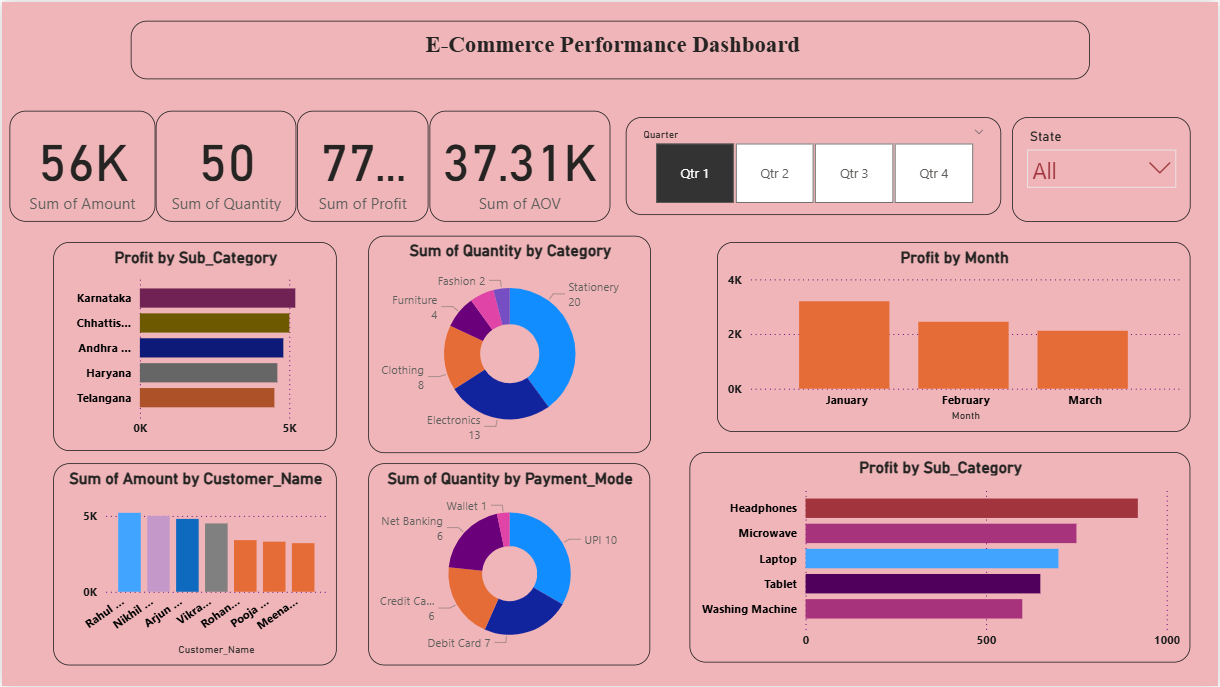

Layout of this report page (visuals, bound fields, positions):
{"tool":"powerbi","page":{"name":"Page 1","canvas":[1280,720],"ordinal":0},"visuals":[{"type":"textbox","box":[135.5,19.7,1009.2,61.8],"z":0},{"type":"clusteredColumnChart","title":"Profit by Month","fields":{"Category":["Sheet1 (2).Order_Date.Variation.Date Hierarchy.Month"],"Y":["Sheet1.Profit"]},"box":[752.5,252.5,498.8,200],"z":1000},{"type":"barChart","title":" Profit by Sub_Category","fields":{"Category":["Sheet1.Sub_Category"],"Y":["Sheet1.Profit"]},"box":[724.3,474.3,527.1,221.4],"z":2000},{"type":"donutChart","fields":{"Category":["Sheet1.Category"],"Y":["Sheet1.Quantity"]},"box":[385,246.2,297.5,228.8],"z":3000},{"type":"donutChart","fields":{"Y":["Sheet1.Quantity"],"Category":["Sheet1.Payment_Mode"]},"box":[385.7,485.7,297.1,212.9],"z":4000},{"type":"card","fields":{"Values":["Sheet1.Amount"]},"box":[8.3,115,153.3,116.7],"z":5000},{"type":"card","fields":{"Values":["Sheet1.Quantity"]},"box":[161.7,115,148.3,116.7],"z":6000},{"type":"card","fields":{"Values":["Sheet1.Profit"]},"box":[310,115,138.3,116.7],"z":7000},{"type":"card","fields":{"Values":["Sheet1.AOV"]},"box":[450,115,190,116.7],"z":8000},{"type":"barChart","title":" Profit by Sub_Category","fields":{"Category":["Sheet1 (2).State"],"Y":["Sheet1.Amount"]},"box":[53.8,252.5,298.8,220],"z":9000},{"type":"slicer","fields":{"Values":["Sheet1 (2).Order_Date.Variation.Date Hierarchy.Quarter"]},"box":[656.7,121.7,395,103.3],"z":10000},{"type":"columnChart","fields":{"Category":["Sheet1 (2).Customer_Name"],"Y":["Sheet1.Amount"]},"box":[54.3,485.7,298.6,212.9],"z":11000},{"type":"slicer","fields":{"Values":["Sheet1 (2).State"]},"box":[1063.3,121.7,188.3,110],"z":12000}]}

Visuals, with their boxes in screenshot pixels (x1, y1, x2, y2), scaled from the page's 1280x720 canvas onto the 1220x687 screenshot:
textbox: (x1=129, y1=19, x2=1091, y2=78)
"Profit by Month" clusteredColumnChart: (x1=717, y1=241, x2=1193, y2=432)
" Profit by Sub_Category" barChart: (x1=690, y1=453, x2=1193, y2=664)
donutChart - Sheet1.Category x Sheet1.Quantity: (x1=367, y1=235, x2=651, y2=453)
donutChart - Sheet1.Quantity x Sheet1.Payment_Mode: (x1=368, y1=463, x2=651, y2=667)
card - Sheet1.Amount: (x1=8, y1=110, x2=154, y2=221)
card - Sheet1.Quantity: (x1=154, y1=110, x2=295, y2=221)
card - Sheet1.Profit: (x1=295, y1=110, x2=427, y2=221)
card - Sheet1.AOV: (x1=429, y1=110, x2=610, y2=221)
" Profit by Sub_Category" barChart: (x1=51, y1=241, x2=336, y2=451)
slicer - Sheet1 (2).Order_Date.Variation.Date Hierarchy.Quarter: (x1=626, y1=116, x2=1002, y2=215)
columnChart - Sheet1 (2).Customer_Name x Sheet1.Amount: (x1=52, y1=463, x2=336, y2=667)
slicer - Sheet1 (2).State: (x1=1013, y1=116, x2=1193, y2=221)
